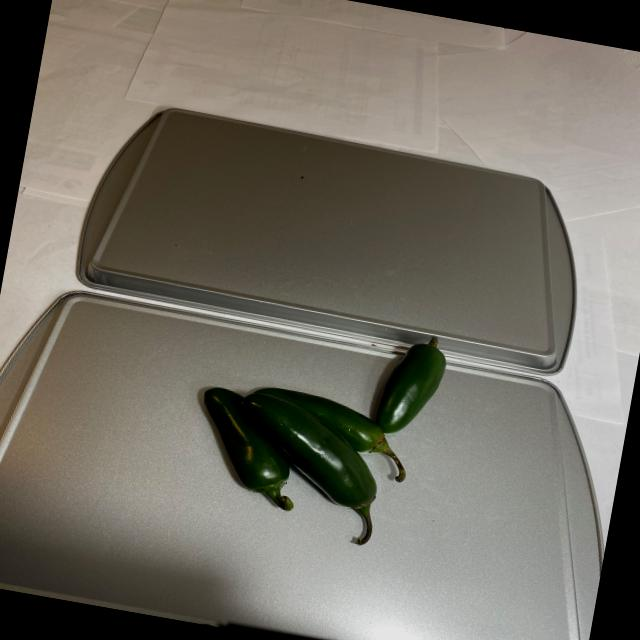chilli: (179, 296, 454, 554)
